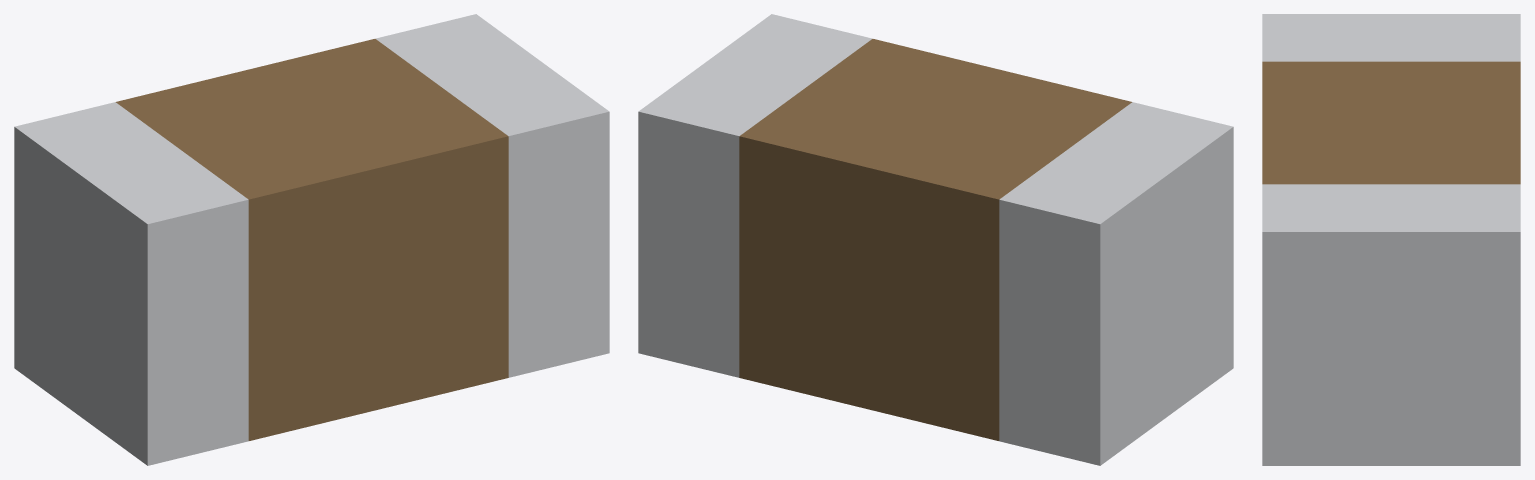
The picture shows the model from 3 angles, left to right: view 1: azimuth 30°, elevation 25°; view 2: azimuth 150°, elevation 25°; view 3: azimuth 270°, elevation 25°; orthographic projection. The views are drawn at different scales.
Parts seen in each view (by area): view 1: body, term1, term2; view 2: body, term1, term2; view 3: term2, body, term1.
Boxes of the visible parts, x1,y1,x2,y2 form: body: (116, 39, 508, 440); term1: (14, 102, 248, 465); term2: (375, 14, 609, 377); body: (739, 39, 1131, 440); term1: (999, 102, 1233, 465); term2: (638, 14, 872, 377); term2: (1262, 184, 1520, 465); body: (1262, 61, 1520, 184); term1: (1262, 14, 1520, 61).
Size of the model in its own units: 0.0016 by 0.0008 by 0.0008.
